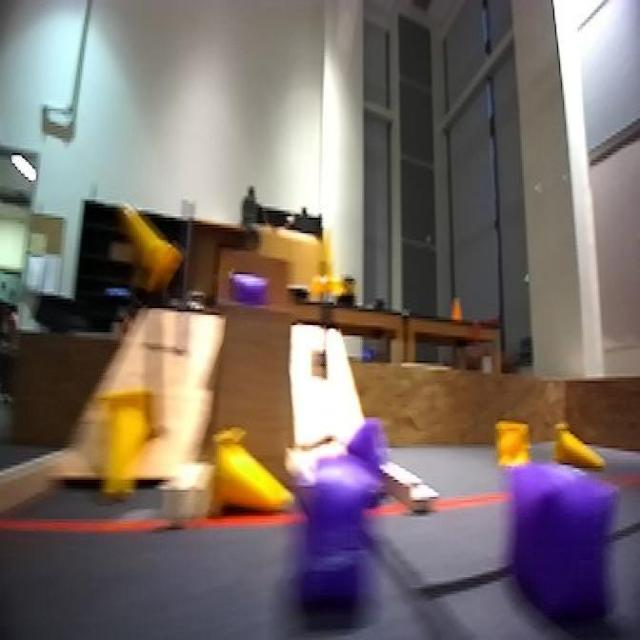frc_cone: (206, 420, 294, 540), (85, 393, 150, 506), (119, 194, 178, 286), (312, 216, 348, 298), (553, 422, 603, 477), (496, 418, 530, 472)
frc_cube: (497, 434, 625, 640), (274, 458, 368, 625), (339, 412, 383, 505), (228, 264, 274, 316)
